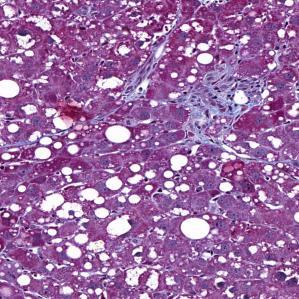fibrosis: (179, 77, 243, 144)
